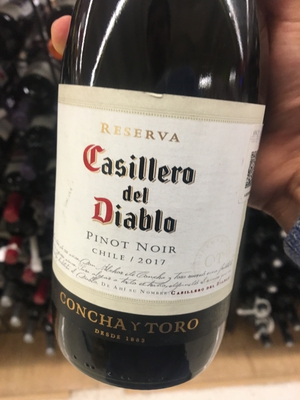casillero del diablo pinot noir: (50, 11, 264, 392)
